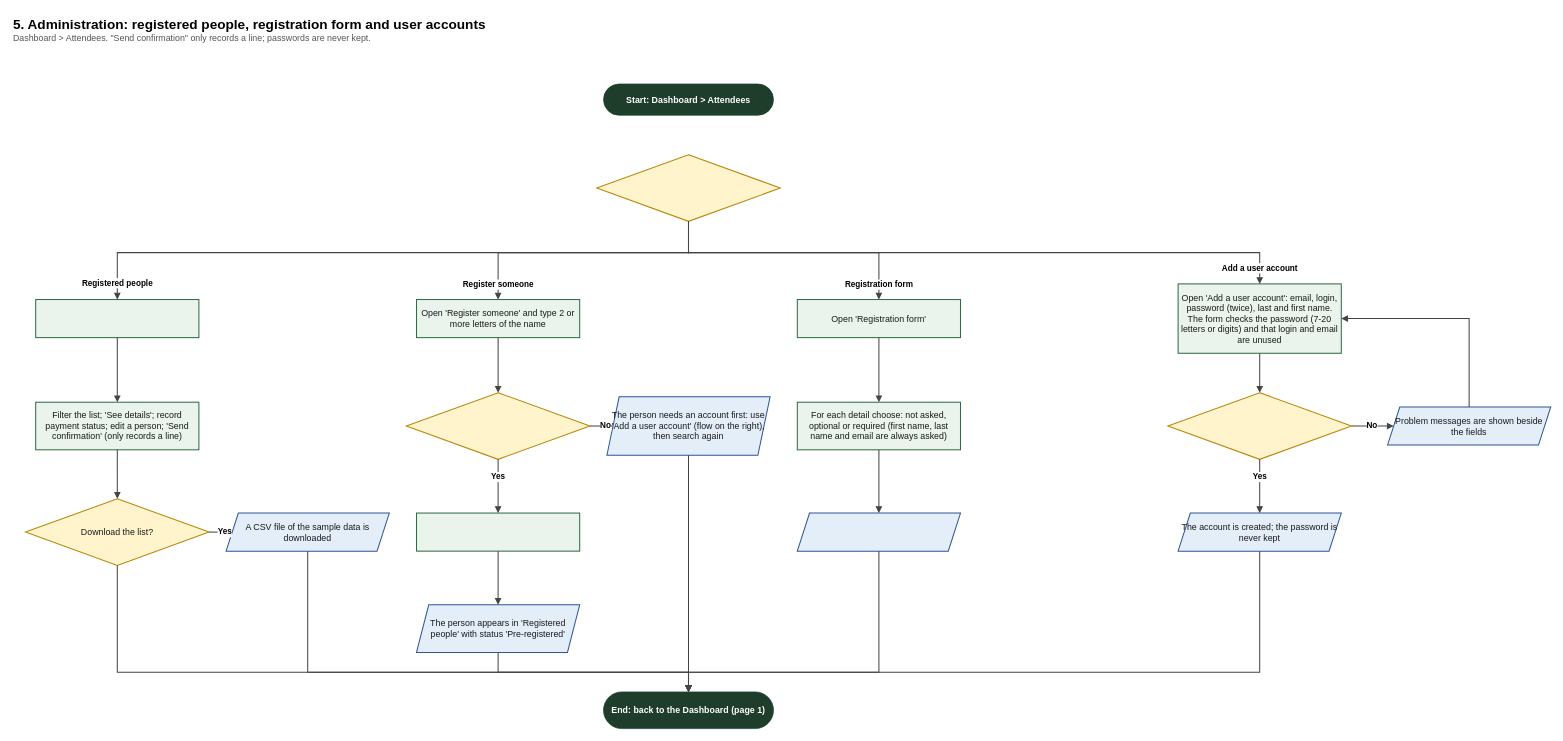
The diagram is 1563 pixels wide and 741 high, and some of its shapes have lost their labels. Here are the shapes that lost their labels. From the top down, the centre of each, then its label:
[688,188]: Which task?
[117,318]: Open 'Registered people'
[497,426]: Is a matching account found?
[1259,426]: Do all the checks pass?
[498,531]: Choose the person and register them
[878,531]: The public registration form now asks exactly these details
